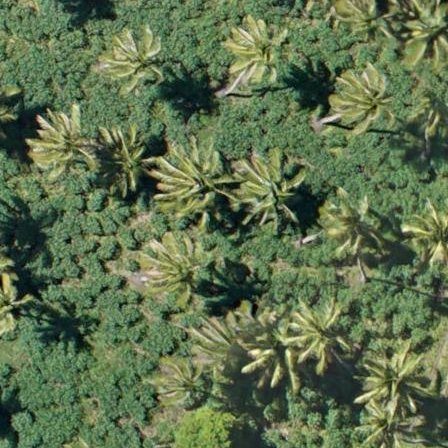palm_tree: (228, 140, 311, 229), (148, 131, 231, 219), (30, 104, 108, 187), (331, 55, 407, 137), (224, 10, 300, 90), (282, 292, 353, 367), (99, 25, 175, 95), (136, 233, 208, 305), (360, 351, 423, 412), (320, 197, 383, 255), (151, 353, 208, 409), (52, 428, 107, 448)
